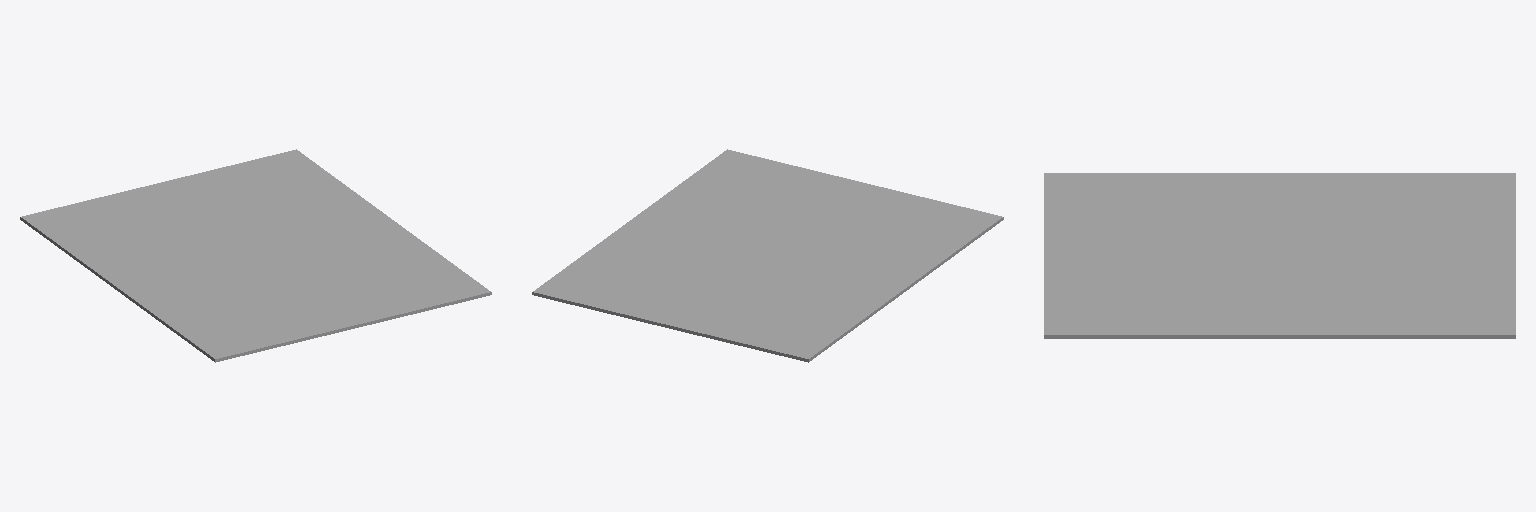
The robot description file, URDF, robot "table":
<robot name="table">
  <link name="table_base_link">
    <contact>
      <lateral_friction value="0.5"/>
      <rolling_friction value="0.0"/>
      <contact_cfm value="0.0"/>
      <contact_erp value="1.0"/>
    </contact>
    <inertial>
      <origin rpy="0 0 0" xyz="0 0 0"/>
      <mass value="0"/>
      <inertia ixx="0" ixy="0" ixz="0" iyy="0" iyz="0" izz="0"/>
    </inertial>
    <visual>
      <origin rpy="0 0 0" xyz="0 0 0"/>
      <geometry>
        <mesh filename="../meshes/table.obj" scale="0.0008 0.0008 0.0008"/>
      </geometry>
      <material name="metal_material">
        <color rgba="0.7 0.7 0.7 1"/>
      </material>
    </visual>
    <collision>
      <origin rpy="0 0 0" xyz="0 0 0"/>
      <geometry>
        <mesh filename="../meshes/table.obj" scale="0.0008 0.0008 0.0008"/>
      </geometry>
    </collision>
  </link>
</robot>

--- Render facts (derived) ---
3 views of the same robot in one strip: view 1: azimuth 30°, elevation 25°; view 2: azimuth 150°, elevation 25°; view 3: azimuth 270°, elevation 25° (orthographic).
Robot: table — 1 links, 0 joints (none); root link table_base_link; default pose: all joints at 0.
Links seen in each view (by area): view 1: table_base_link; view 2: table_base_link; view 3: table_base_link.
Boxes of the visible links, bbox=[...] form: table_base_link: bbox=[20, 149, 491, 362]; table_base_link: bbox=[532, 149, 1003, 362]; table_base_link: bbox=[1044, 173, 1515, 338].
Bounding box of the posed robot: 0.72 × 0.88 × 0.008 m (x, y, z).
1 mesh visuals loaded from 1 distinct referenced files (1 OBJ).